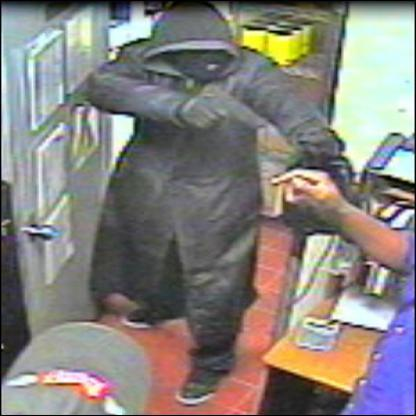pistols: (180, 88, 275, 145)
